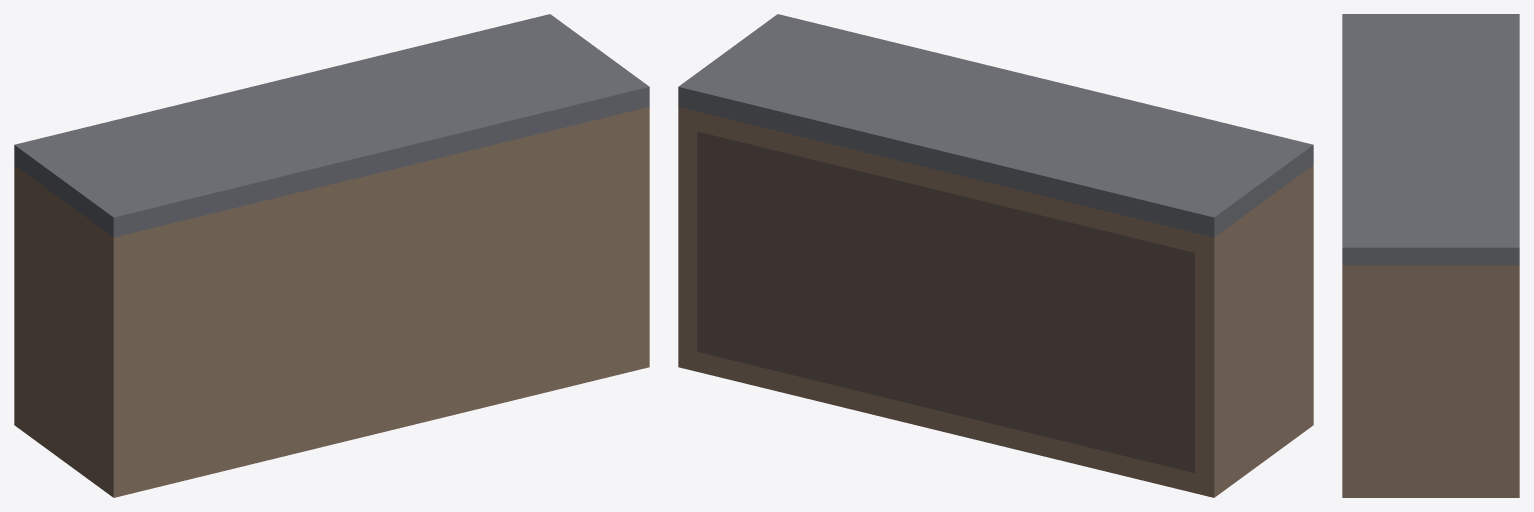
File: comptoir.glb
3 renders of one model, left to right at view 1: azimuth 30°, elevation 25°; view 2: azimuth 150°, elevation 25°; view 3: azimuth 270°, elevation 25°, orthographic. The views are drawn at different scales.
Visible parts, largest first — view 1: main; view 2: main; view 3: main.
Part boxes in pixels (bbox=[...]): main: bbox=[14, 14, 649, 497]; main: bbox=[678, 14, 1313, 497]; main: bbox=[1342, 14, 1519, 497].
Bounding box in the file's own units: 1.75 × 0.875 × 0.5625.
